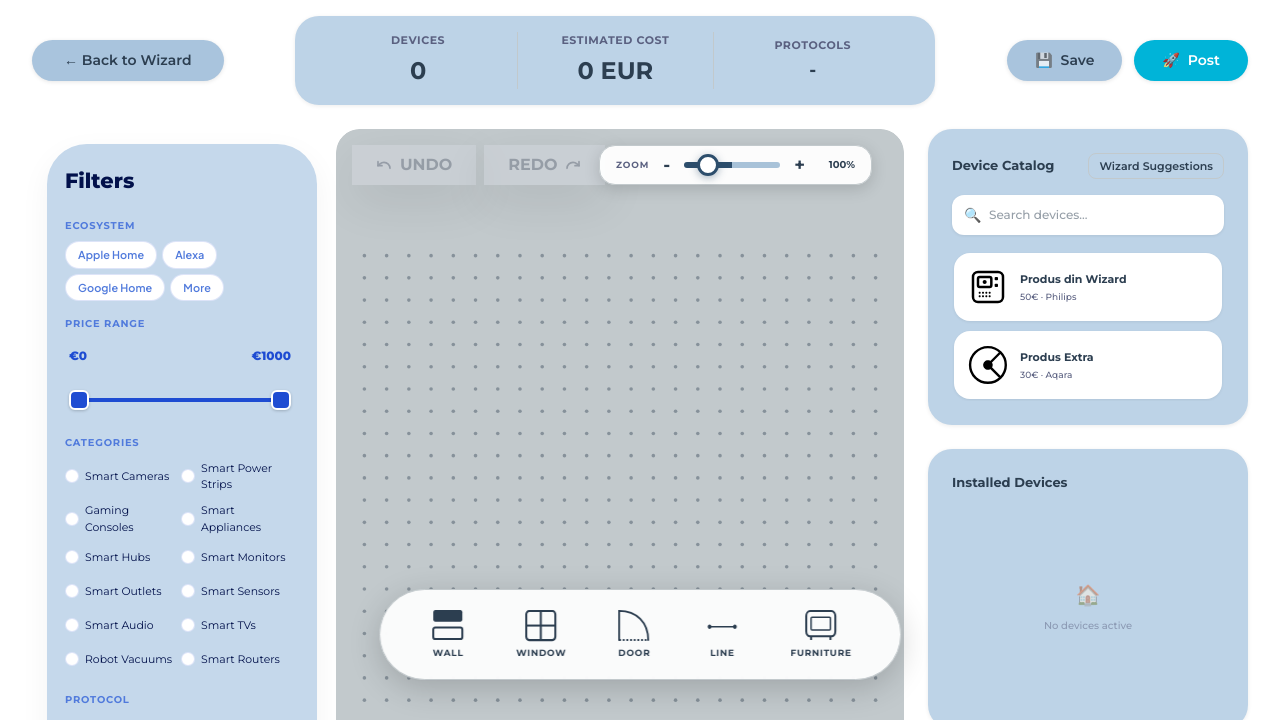
LayoutCanvas - Suita de Testare › Afișează butonul Wizard Suggestions și filtrează corect produsele
The width and height of the screenshot is (1280, 720).
Check: the text "Produs din Wizard" is shown, box top-left (1020, 271), bottom-right (1127, 288)
Check: the text "Produs Extra" is shown, box top-left (1020, 349), bottom-right (1094, 366)
Click the button "Wizard Suggestions".
click(1156, 166)  # box top-left (1088, 152), bottom-right (1224, 179)
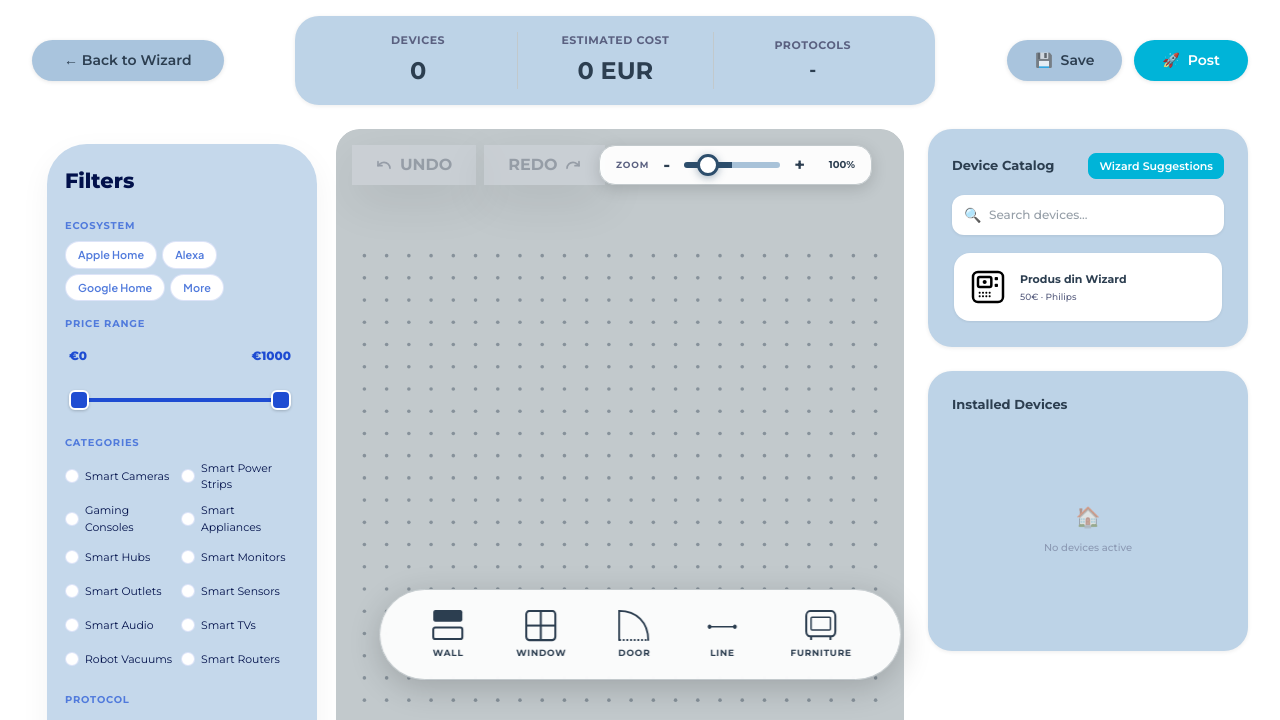
Check: the text "Produs din Wizard" is shown, box top-left (1020, 271), bottom-right (1127, 288)
Check: the text "Produs Extra" is gone
Click the button "Wizard Suggestions".
click(1156, 166)  # box top-left (1088, 152), bottom-right (1224, 179)
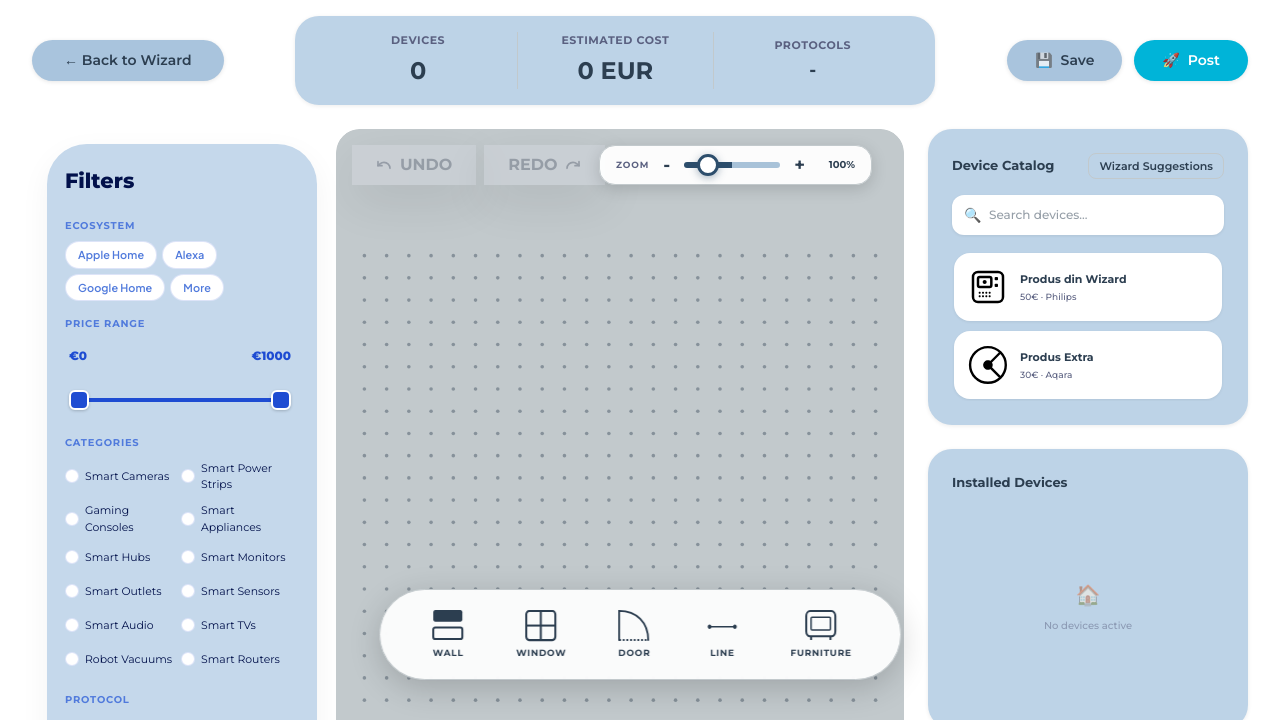
Check: the text "Produs Extra" is shown, box top-left (1020, 349), bottom-right (1094, 366)
